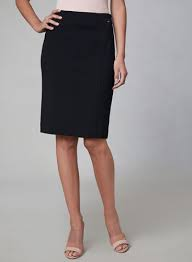F_tailored skirt: (34, 9, 120, 142)
